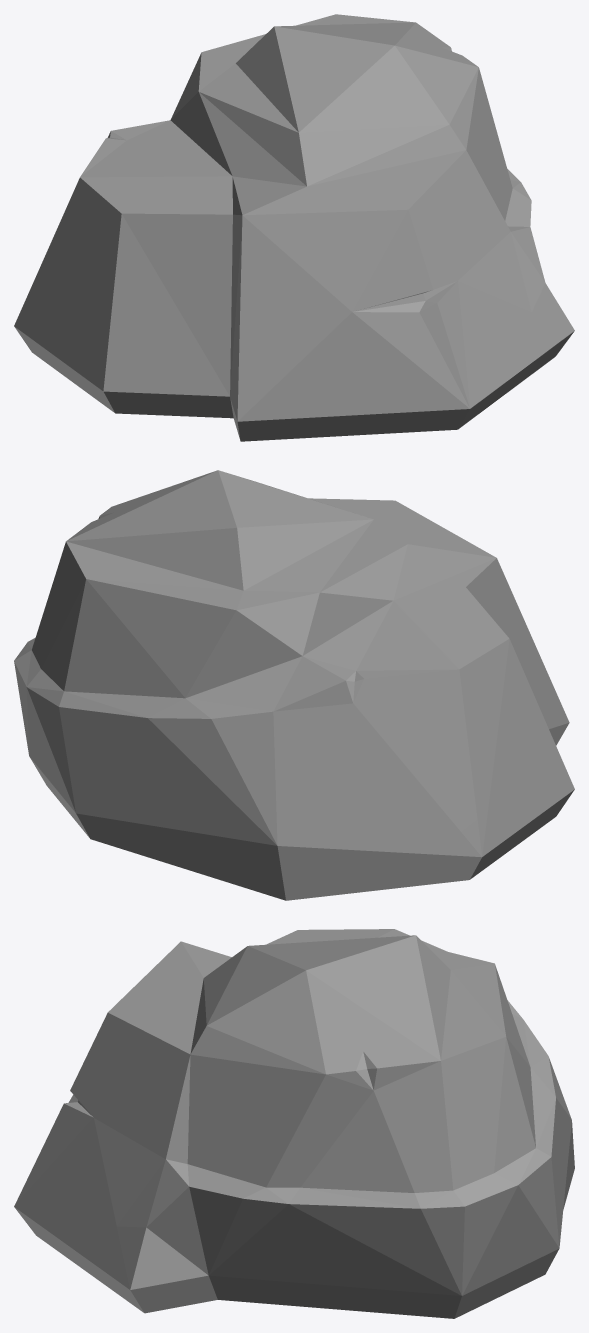
File: rock__rock8_natural_light.glb
3 views of the same model, one above another, from view 1: azimuth 30°, elevation 25°; view 2: azimuth 150°, elevation 25°; view 3: azimuth 270°, elevation 25° (orthographic). The views are drawn at different scales.
Parts seen in each view (by area): view 1: rock8.natural.light; view 2: rock8.natural.light; view 3: rock8.natural.light.
Boxes of the visible parts, x1,y1,x2,y2 form: rock8.natural.light: [14, 14, 574, 441]; rock8.natural.light: [14, 470, 574, 900]; rock8.natural.light: [14, 929, 574, 1318].
Bounding box in the file's own units: 2.69 × 1.59 × 2.71.
Materials: 1 (1 with a texture image).
